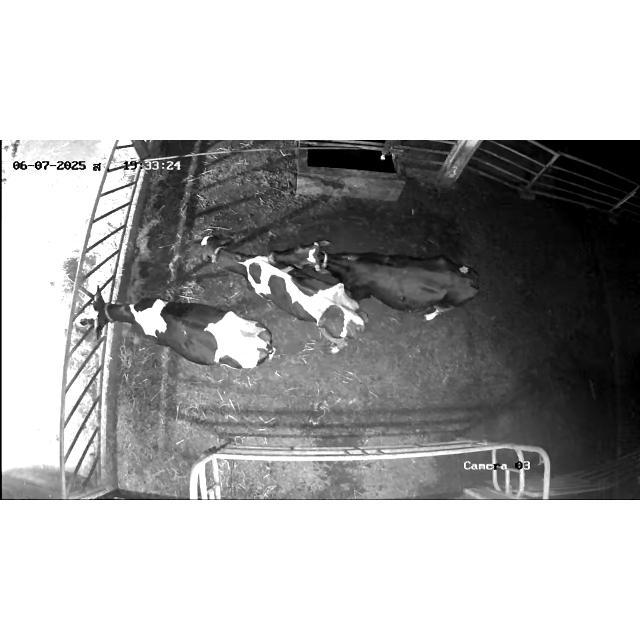stand: (198, 236, 368, 353), (270, 240, 479, 321)
